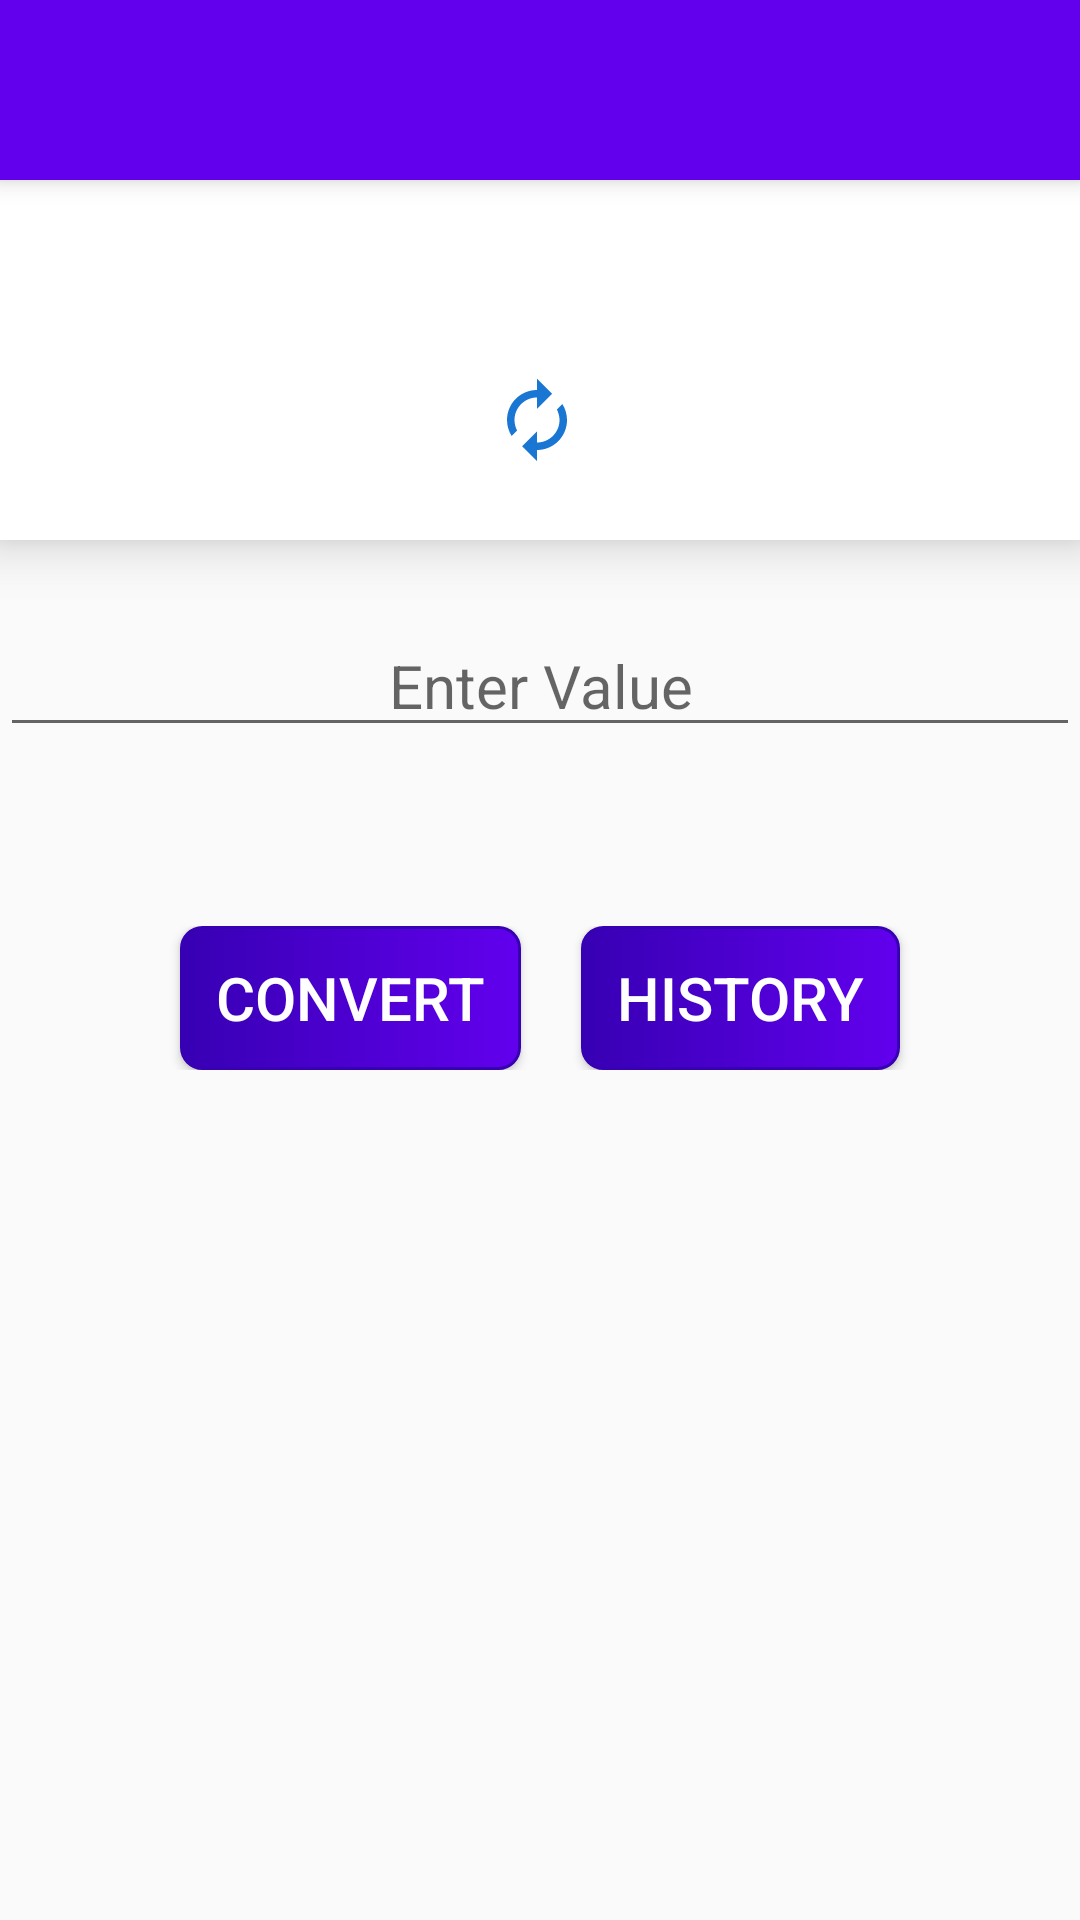

Where to tap for icons on this 1080w x 1920h app screen, as point (x, y):
autorenew: point (537, 420)
